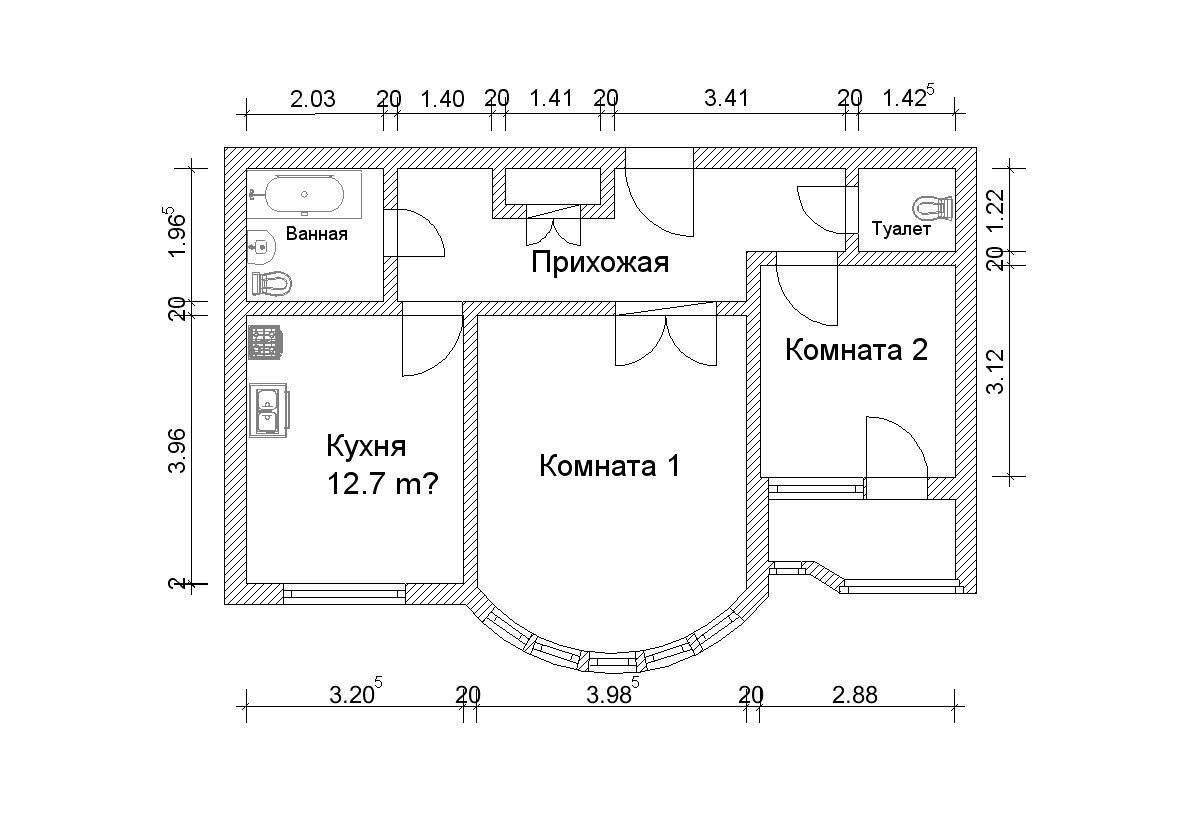balcony: (767, 501, 958, 580)
bathroom: (247, 169, 384, 301)
bedroom: (761, 266, 957, 477)
hallway: (398, 167, 847, 301)
kitchen: (244, 316, 462, 586)
living_room: (477, 314, 747, 651)
toilet: (858, 169, 957, 251)
walk_in_closet: (506, 168, 600, 204)
